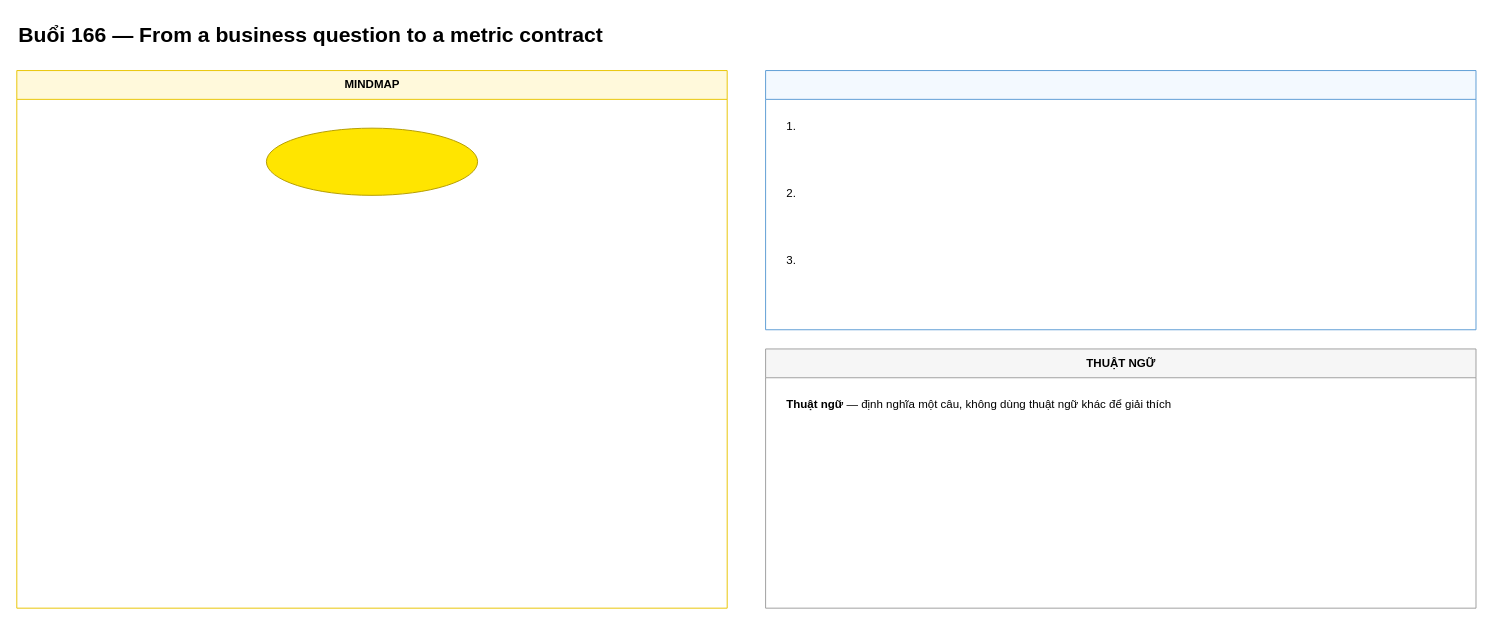
The diagram is 1493 pixels wide and 625 high, and some of its shapes have lost their labels. Each missing label, with the box of its shape:
From a business question to a metric contract: (265, 127, 478, 195)
KEY TAKEAWAY — ba điều phải nhớ: (765, 70, 1476, 330)
